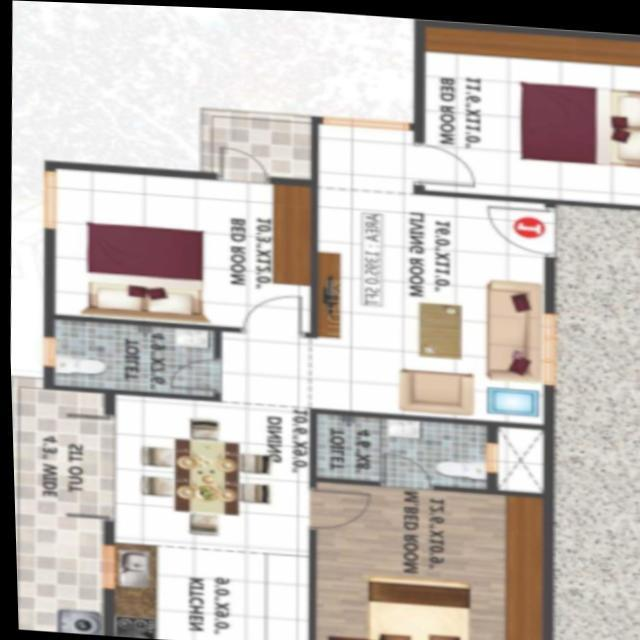Balcony-Sitout: (10, 386, 106, 516)
Bedroom: (49, 166, 309, 332), (418, 21, 640, 201)
Bedroom with Toilet: (307, 408, 544, 640)
Dining: (129, 403, 272, 540)
Enterance-Foyer: (480, 195, 551, 255)
Kitchen: (104, 541, 304, 640)
Living: (310, 183, 548, 421)
Toilet: (312, 411, 485, 487), (50, 318, 210, 395)
Utility: (12, 514, 100, 634)
